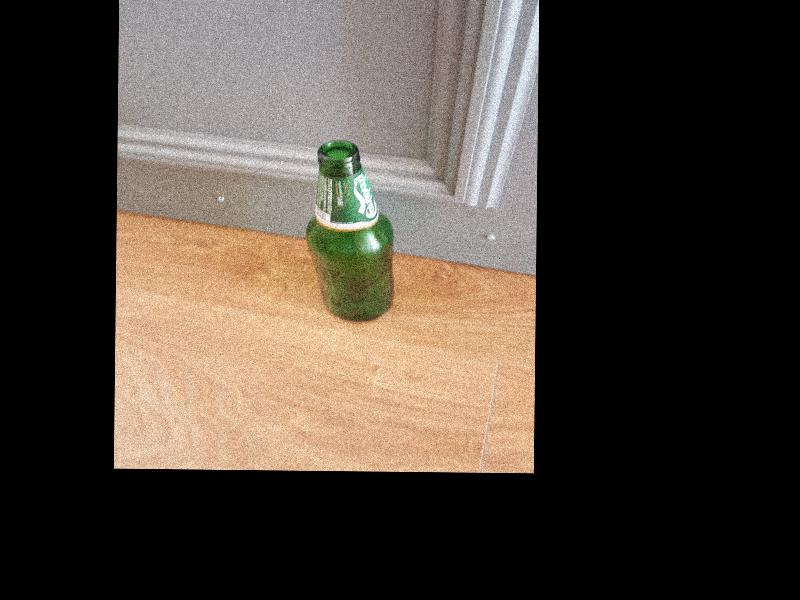Beer: (304, 140, 396, 322)
